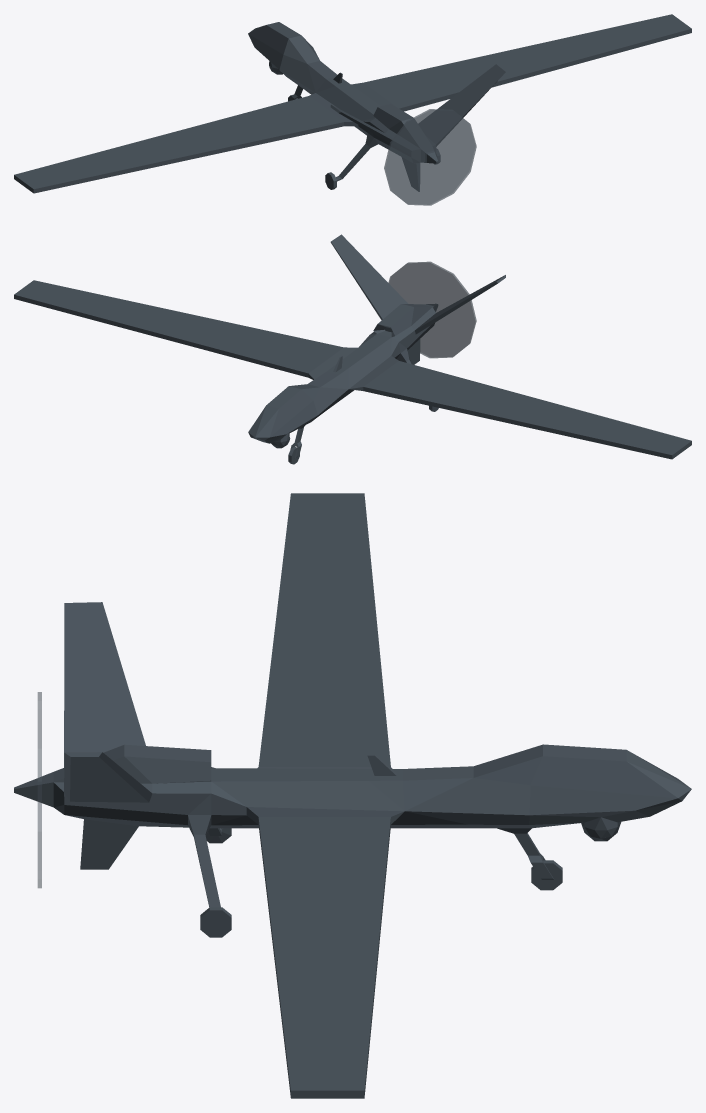
Rendered from Drone-MQ9.glb.
The picture shows the model from 3 angles, top to bottom: view 1: azimuth 30°, elevation 25°; view 2: azimuth 150°, elevation 25°; view 3: azimuth 270°, elevation 25°; orthographic projection. The views are drawn at different scales.
Bounding box in the file's own units: 28.08 × 4.64 × 13.47.
